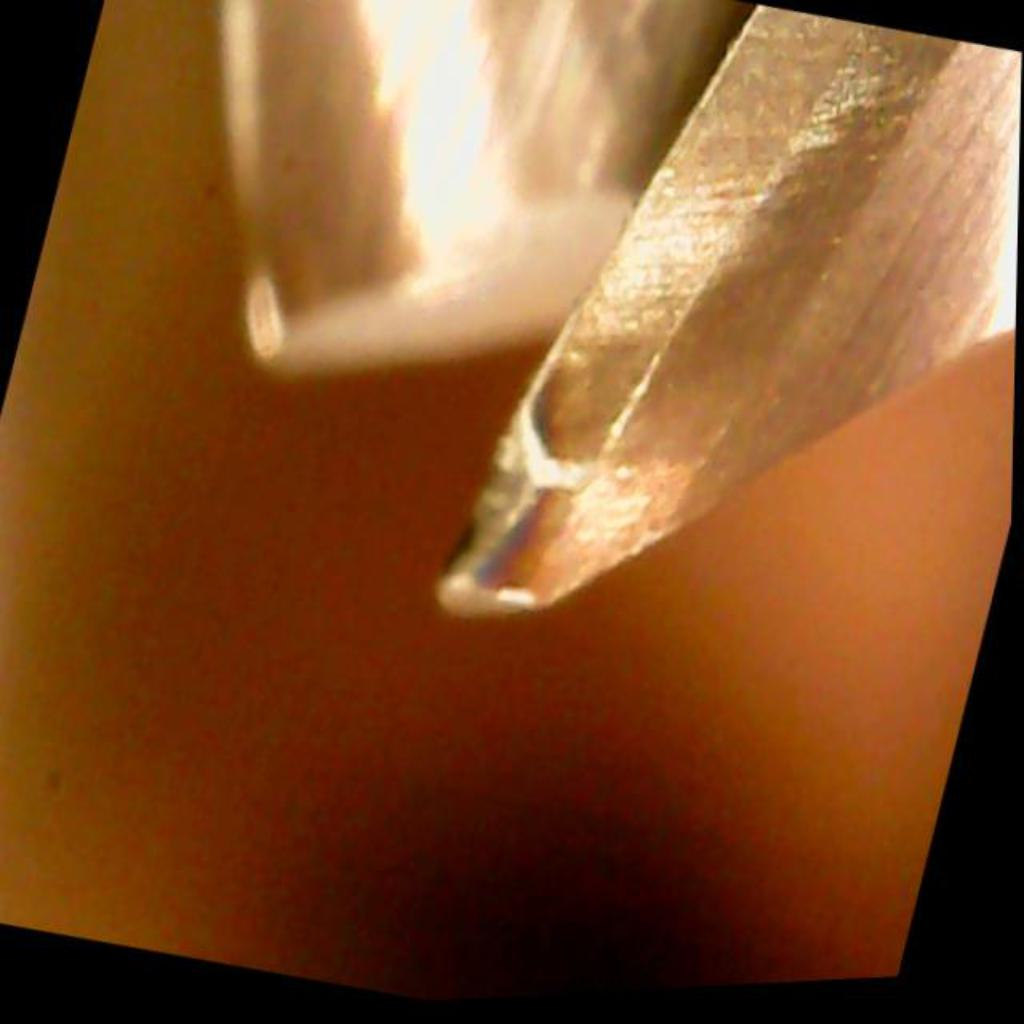Tool-wear-class-1: (381, 90, 838, 686)
